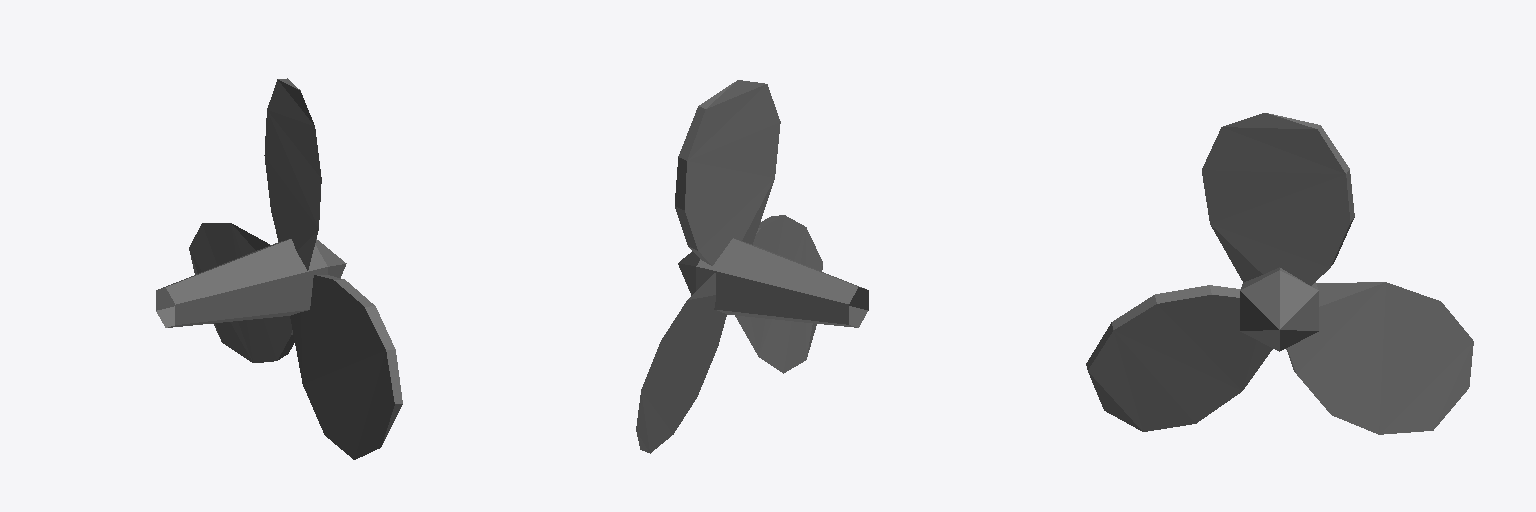
3 renders of one model, left to right at view 1: azimuth 30°, elevation 25°; view 2: azimuth 150°, elevation 25°; view 3: azimuth 270°, elevation 25°, orthographic.
Visible parts, largest first — view 1: mesh_0_Fan; view 2: mesh_0_Fan; view 3: mesh_0_Fan.
Part boxes in pixels (bbox=[...]): mesh_0_Fan: bbox=[156, 78, 402, 459]; mesh_0_Fan: bbox=[636, 80, 868, 453]; mesh_0_Fan: bbox=[1086, 113, 1473, 434].
Size of the model in its own units: 3.33 by 5.69 by 6.18.
1 materials, 1 textured.